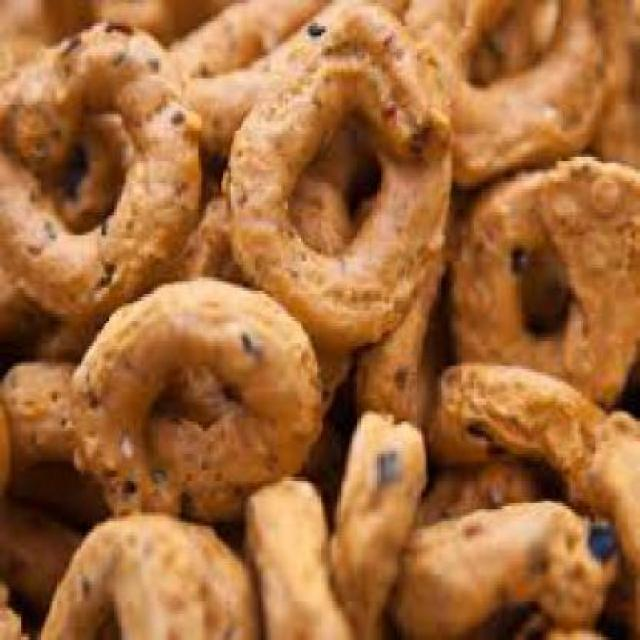Taralli: (22, 25, 613, 598)
